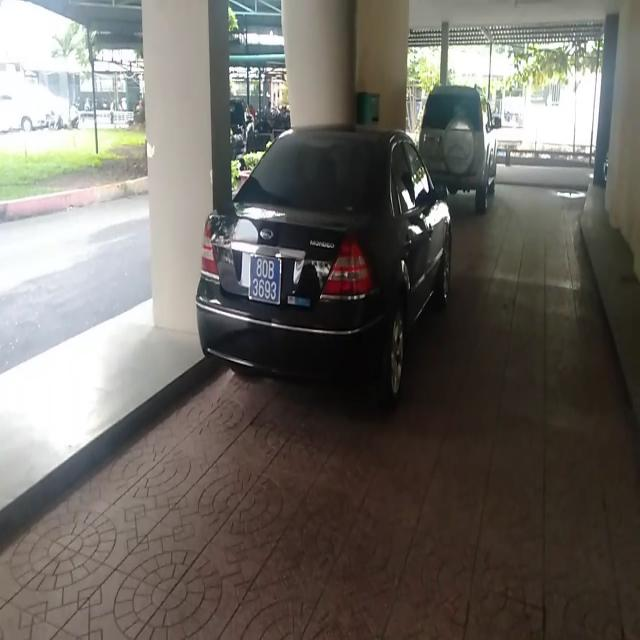bien_xanh: (246, 251, 284, 307)
